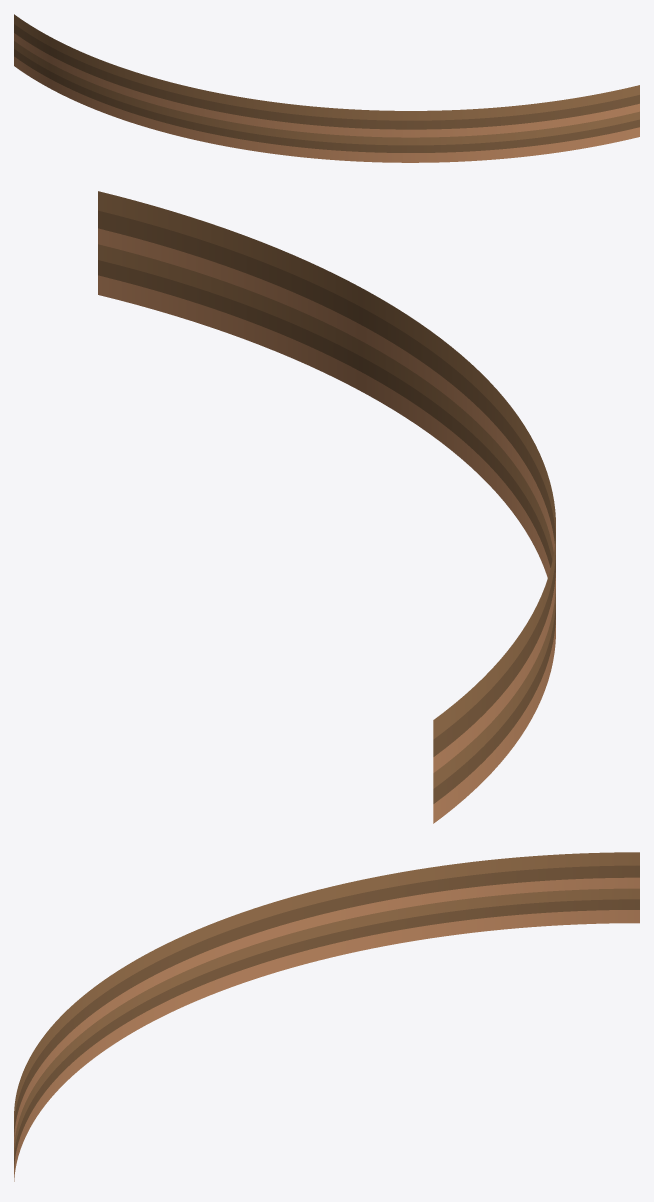
The model's file is platform_grass_corner_round8_center_tall.gltf.
The picture shows the model from 3 angles, top to bottom: view 1: azimuth 30°, elevation 25°; view 2: azimuth 150°, elevation 25°; view 3: azimuth 270°, elevation 25°; orthographic projection. The views are drawn at different scales.
Visible parts, largest first — view 1: Cube_Grass_Corner_Round8Center_Tall; view 2: Cube_Grass_Corner_Round8Center_Tall; view 3: Cube_Grass_Corner_Round8Center_Tall.
Boxes of the visible parts, box(x1,y1,x2,y2) form: Cube_Grass_Corner_Round8Center_Tall: box(14, 14, 639, 162); Cube_Grass_Corner_Round8Center_Tall: box(98, 191, 555, 823); Cube_Grass_Corner_Round8Center_Tall: box(14, 852, 639, 1181).
Bounding box in the file's own units: 16 × 2 × 16.
